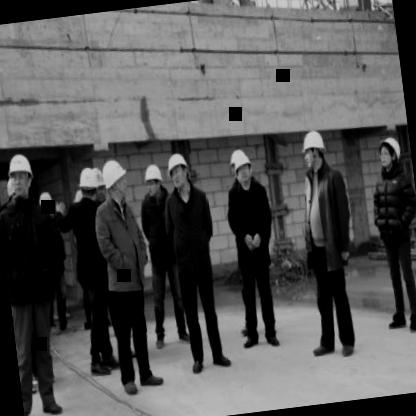helmet: (3, 146, 39, 202), (298, 124, 330, 174), (101, 158, 130, 206), (227, 146, 256, 190), (164, 150, 192, 194), (375, 130, 403, 173), (142, 160, 166, 202), (74, 164, 99, 202), (35, 185, 58, 222), (92, 166, 108, 202)
